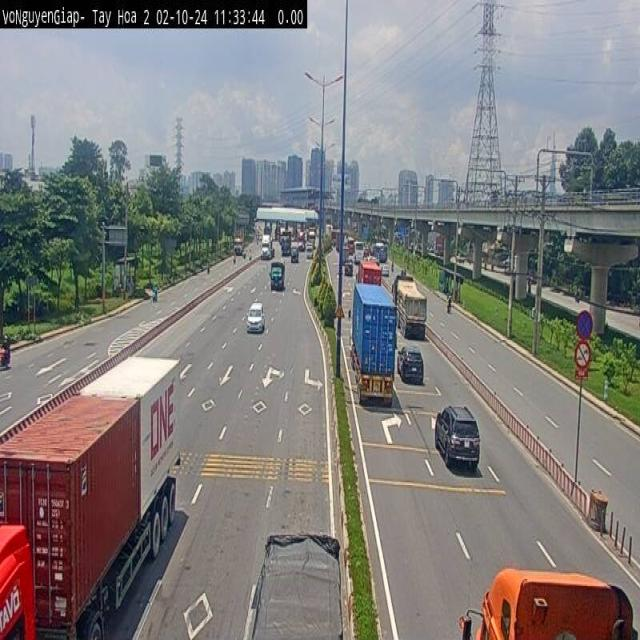car: (434, 404, 480, 471), (246, 301, 264, 333)
container-truck: (0, 354, 181, 639), (454, 560, 640, 640), (349, 280, 396, 406)
